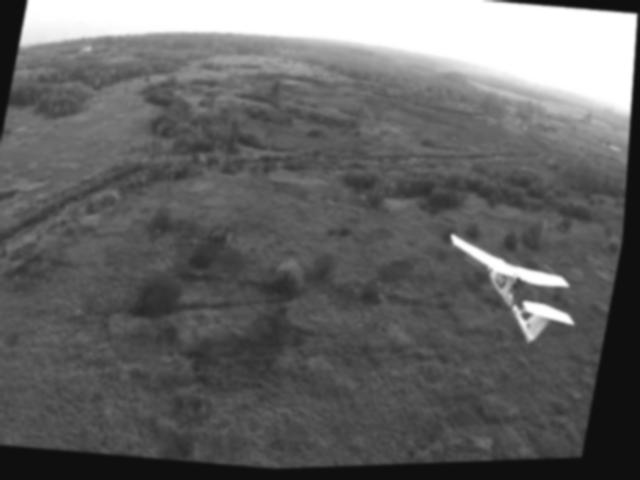hedef: (434, 225, 601, 369)
